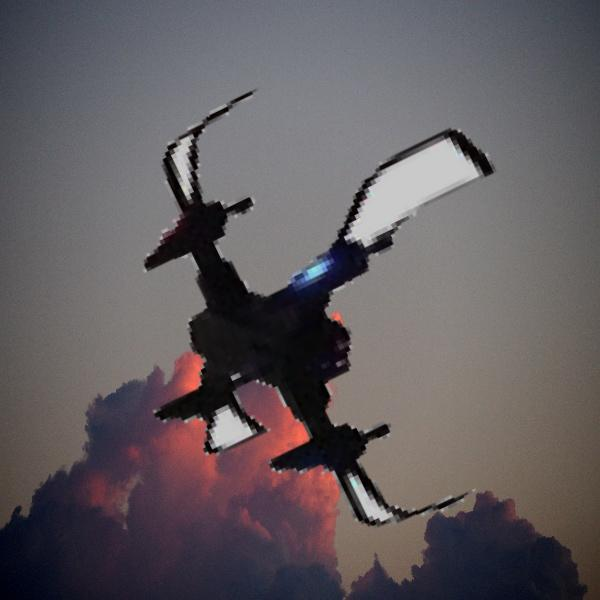drone: (104, 73, 584, 553)
